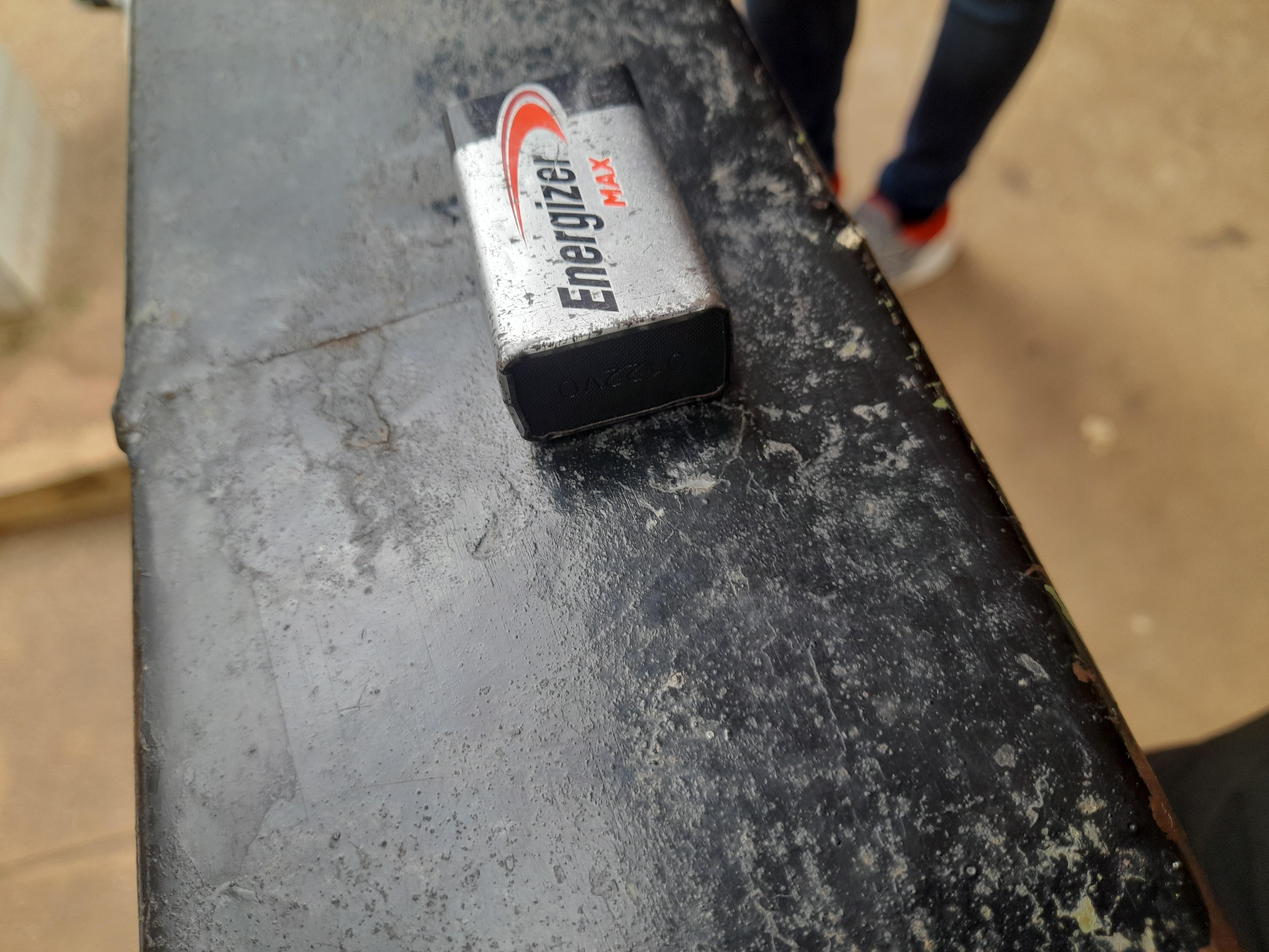9V: (673, 324, 1203, 565)
